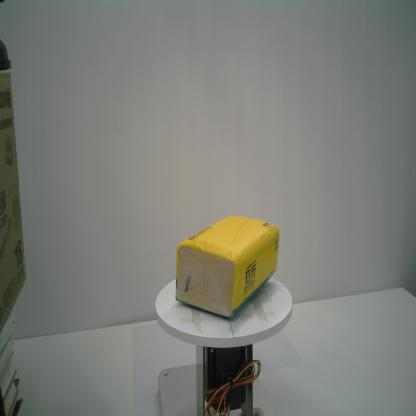Tissue: (175, 213, 279, 321)
